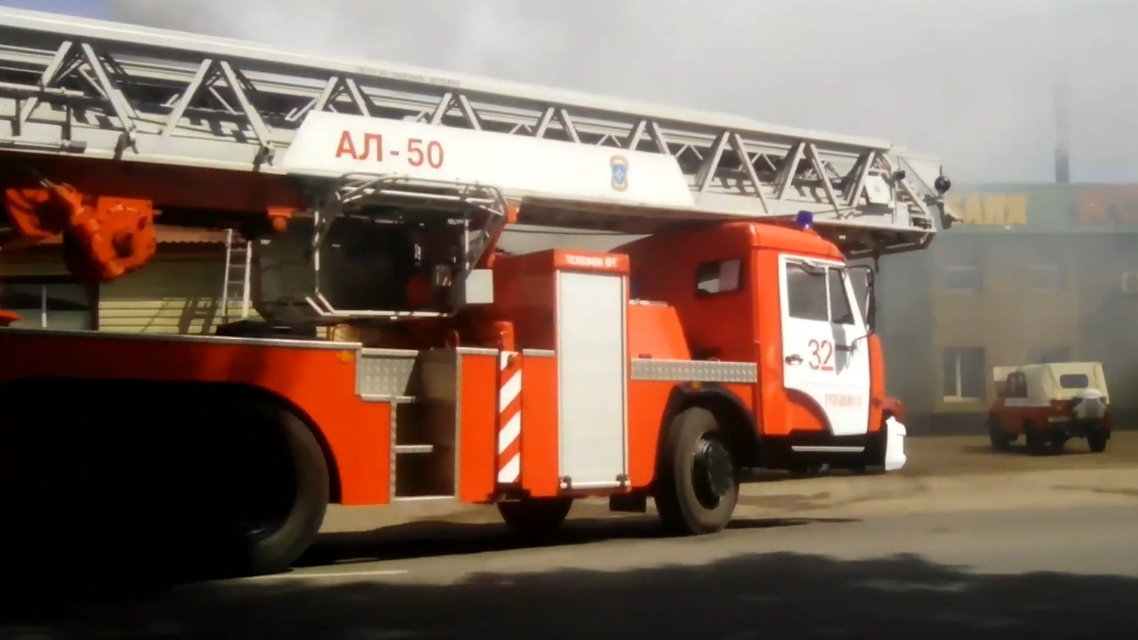fire fighting vehicle: (2, 5, 942, 573), (990, 358, 1114, 456)
